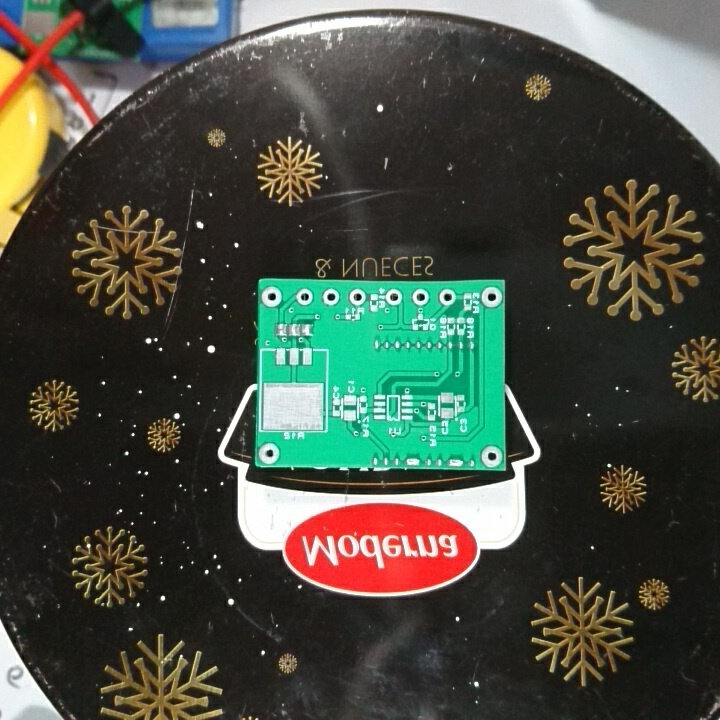F: (477, 443, 504, 469), (259, 283, 283, 312), (257, 441, 281, 466), (479, 287, 503, 311), (382, 286, 405, 310), (294, 286, 315, 308), (437, 286, 458, 308), (321, 286, 341, 308), (410, 287, 431, 307), (347, 288, 366, 308)
P: (445, 455, 467, 469), (402, 455, 423, 468)
